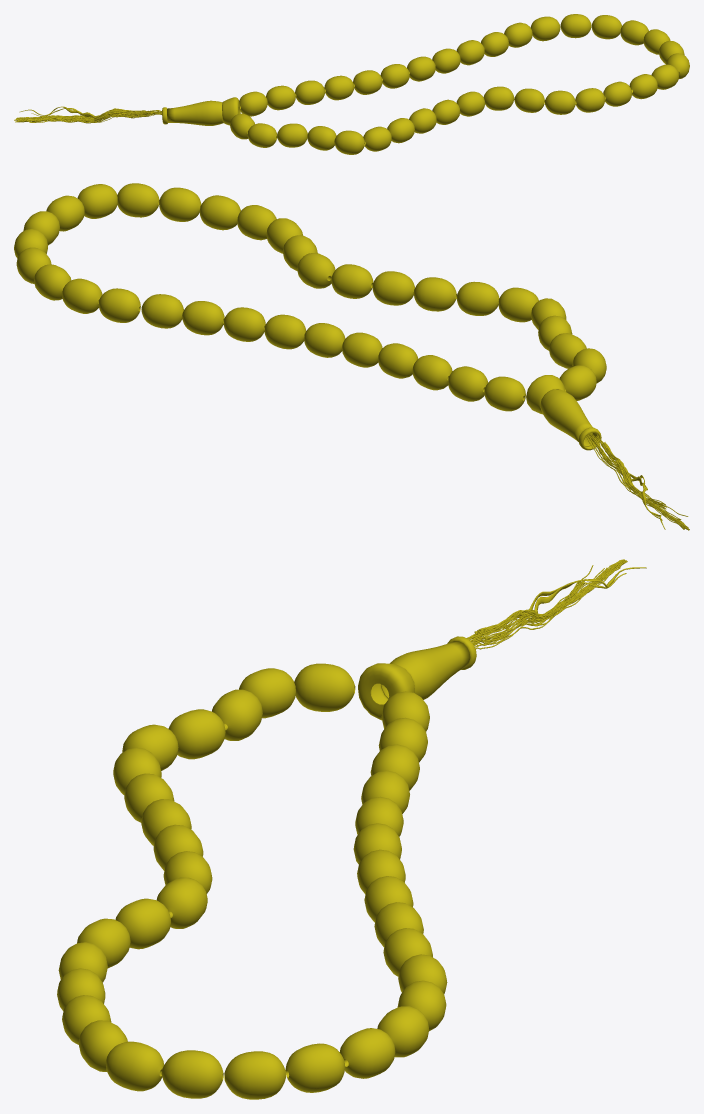
Rendered from tasbeeh.glb.
3 views of the same model, one above another, from view 1: azimuth 30°, elevation 25°; view 2: azimuth 150°, elevation 25°; view 3: azimuth 270°, elevation 25° (orthographic). The views are drawn at different scales.
Parts seen in each view (by area): view 1: Line003, Object014__0, Object034__0, Object024__0, Object026__0, Object032__0, Object025__0, Object015__0, Object035__0, Object005__0, Object023__0, Object004__0 (+24 smaller); view 2: Line003, Object029__0, Object020__0, Object028__0, Object030__0, Object010__0, Object011__0, Object009__0, Object012__0, Object021__0, Object027__0, Object002__0 (+24 smaller); view 3: Line003, Object017__0, Object018__0, Object036__0, Object016__0, Object019__0, Object015__0, Object033__0, Object025__0, Object026__0, Object034__0, Object035__0 (+24 smaller).
Part boxes in pixels (x1,y1,x2,y2): Line003: (162, 97, 240, 125); Object014__0: (560, 14, 591, 38); Object034__0: (277, 123, 307, 147); Object024__0: (545, 90, 575, 114); Object026__0: (483, 86, 514, 110); Object032__0: (334, 130, 364, 154); Object025__0: (514, 88, 544, 112); Object015__0: (591, 15, 621, 39); Object035__0: (247, 123, 277, 147); Object005__0: (324, 75, 354, 100); Object023__0: (575, 88, 604, 112); Object004__0: (295, 80, 325, 104); Line003: (526, 375, 601, 450); Object029__0: (413, 277, 456, 311); Object020__0: (117, 183, 159, 217); Object028__0: (372, 271, 414, 305); Object030__0: (456, 281, 499, 315); Object010__0: (182, 301, 224, 335); Object011__0: (141, 294, 183, 328); Object009__0: (223, 307, 265, 341); Object012__0: (98, 288, 140, 322); Object021__0: (159, 187, 201, 221); Object027__0: (331, 264, 373, 298); Object002__0: (484, 376, 525, 411); Line003: (358, 636, 476, 720); Object017__0: (224, 1051, 285, 1099); Object018__0: (161, 1050, 223, 1098); Object036__0: (294, 663, 355, 711); Object016__0: (285, 1043, 344, 1092); Object019__0: (106, 1041, 163, 1091); Object015__0: (339, 1028, 395, 1078); Object033__0: (168, 709, 225, 759); Object025__0: (115, 898, 170, 949); Object026__0: (156, 877, 207, 928); Object034__0: (212, 689, 262, 740); Object035__0: (239, 668, 295, 718).
Size of the model in its own units: 151 by 7.44 by 68.76.
